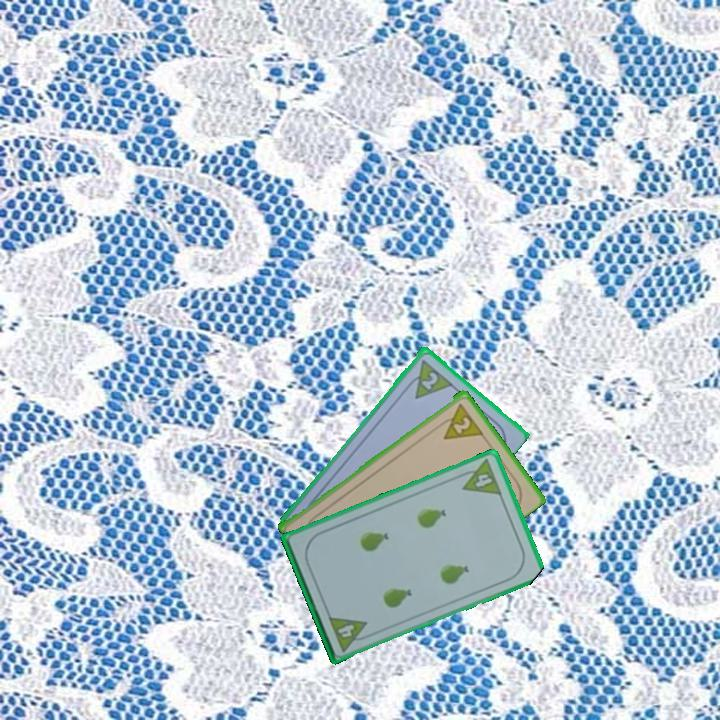2p: (417, 368, 441, 392), (450, 413, 474, 436)
4p: (454, 456, 505, 498), (325, 612, 374, 654)
